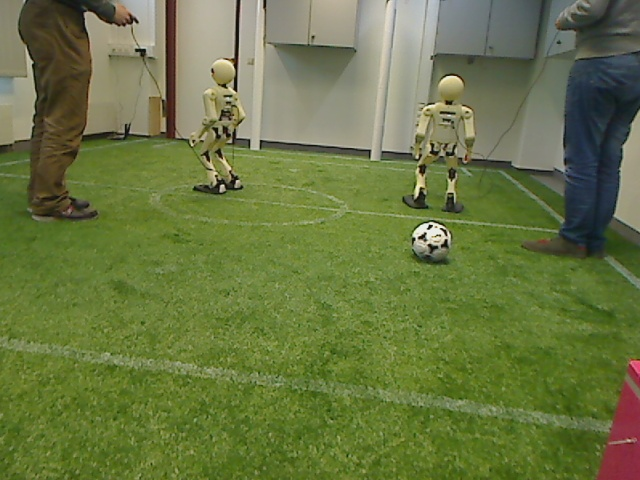ball: (408, 220, 454, 266)
robot: (403, 75, 472, 211), (191, 57, 246, 194)
